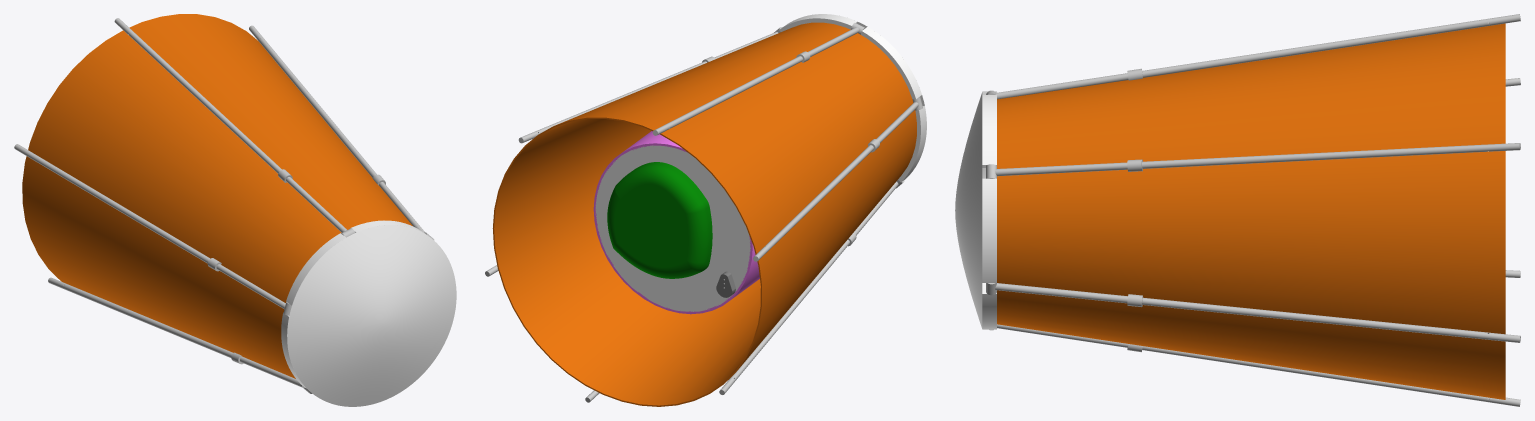
The model's file is Payload assembly 2.obj.
3 renders of one model, left to right at view 1: azimuth 30°, elevation 25°; view 2: azimuth 150°, elevation 25°; view 3: azimuth 270°, elevation 25°, orthographic. The views are drawn at different scales.
Parts seen in each view (by area): view 1: mesh 4 umbrella pin-1, mesh 2 ring-1, mesh 3 pinHD-1; view 2: mesh 4 umbrella pin-1, mesh 2 ring-1, mesh 6 umbrella pin-2, mesh 3 pinHD-1, mesh 5 pin2-1; view 3: mesh 4 umbrella pin-1, mesh 3 pinHD-1, mesh 2 ring-1.
Part boxes in pixels (x1,y1,x2,y2): mesh 4 umbrella pin-1: (22, 14, 412, 378); mesh 2 ring-1: (281, 220, 456, 406); mesh 3 pinHD-1: (14, 18, 434, 393); mesh 4 umbrella pin-1: (492, 22, 916, 406); mesh 2 ring-1: (595, 14, 926, 311); mesh 6 umbrella pin-2: (607, 162, 712, 278); mesh 3 pinHD-1: (485, 23, 922, 402); mesh 5 pin2-1: (593, 131, 759, 314); mesh 4 umbrella pin-1: (997, 23, 1505, 399); mesh 3 pinHD-1: (986, 14, 1520, 406); mesh 2 ring-1: (955, 91, 996, 329).
Bounding box in the file's own units: 0.2116 × 0.2135 × 0.3109.
